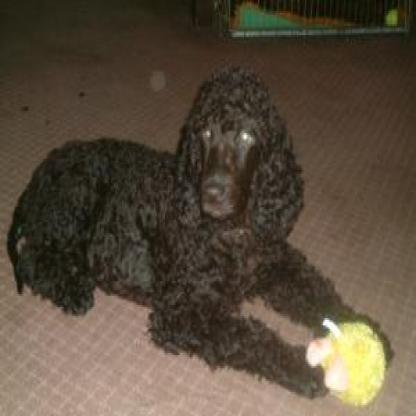Irish_water_spaniel: (7, 64, 394, 398)
